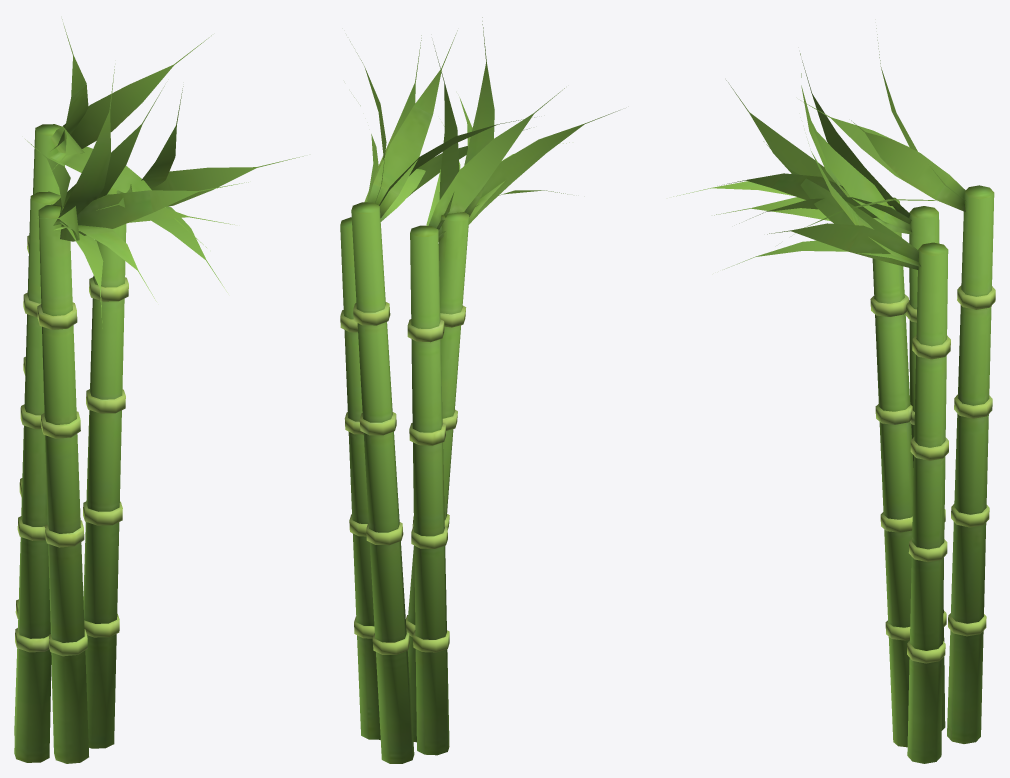
The model's file is crop_sugarcane.glb.
The picture shows the model from 3 angles, left to right: view 1: azimuth 30°, elevation 25°; view 2: azimuth 150°, elevation 25°; view 3: azimuth 270°, elevation 25°; orthographic projection. The views are drawn at different scales.
Parts seen in each view (by area): view 1: crop_sugarcane, fruit; view 2: crop_sugarcane, fruit; view 3: crop_sugarcane, fruit.
Boxes of the visible parts, box(x1,y1,x2,y2) form: crop_sugarcane: box(14, 19, 303, 763); fruit: box(15, 235, 128, 656); crop_sugarcane: box(340, 17, 619, 763); fruit: box(340, 302, 466, 654); crop_sugarcane: box(673, 28, 994, 763); fruit: box(870, 285, 995, 663).
Bounding box in the file's own units: 0.3017 × 0.7401 × 0.314.
Materials: 1 (1 with a texture image).
